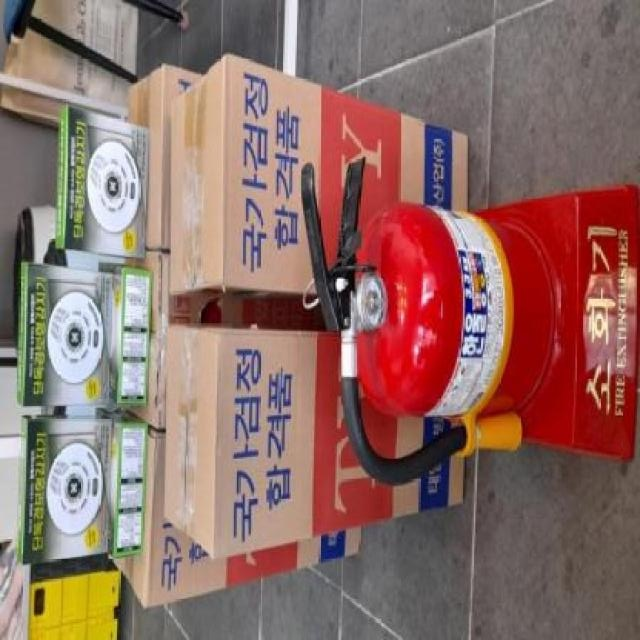fire extinguisher: (300, 156, 555, 487)
